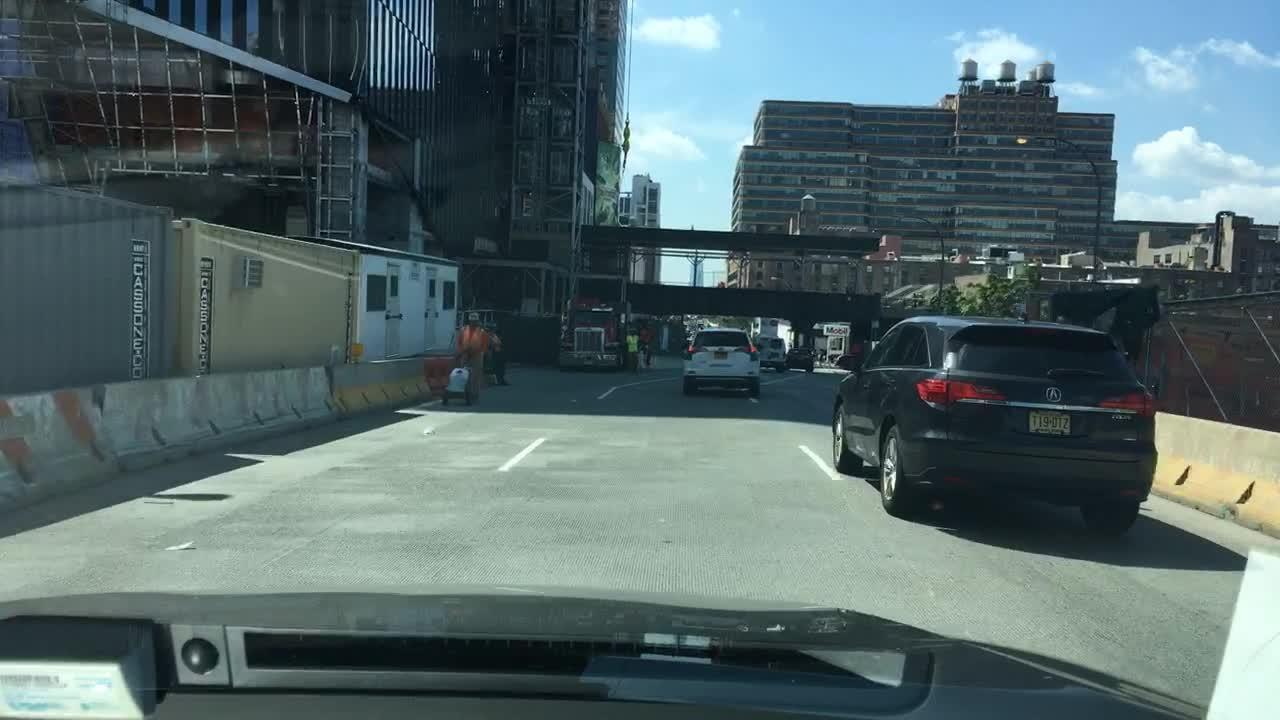acura: (1042, 384, 1065, 403)
